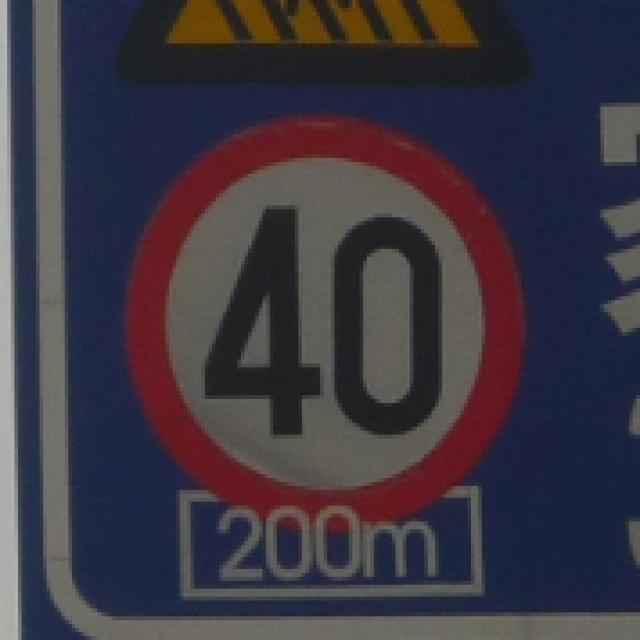Speed: (116, 113, 526, 516)
